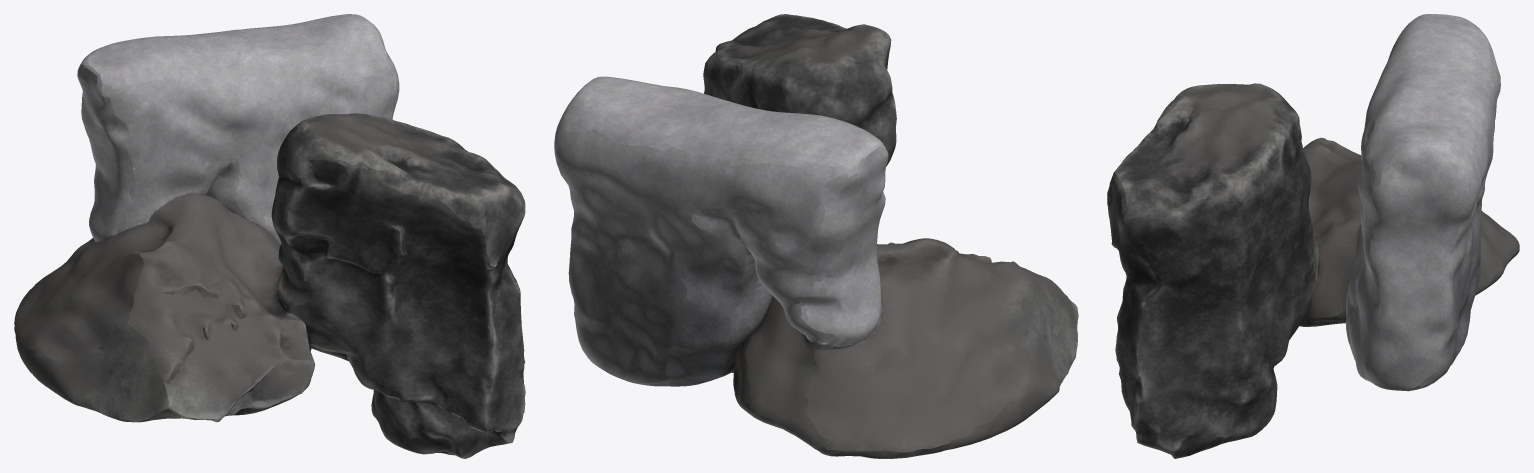
3 renders of one model, left to right at view 1: azimuth 30°, elevation 25°; view 2: azimuth 150°, elevation 25°; view 3: azimuth 270°, elevation 25°, orthographic. The views are drawn at different scales.
Parts seen in each view (by area): view 1: world; view 2: world; view 3: world.
Part boxes in pixels (<box>): world: <box>14,14,525,458</box>; world: <box>554,14,1078,458</box>; world: <box>1107,14,1519,458</box>.
Bounding box in the file's own units: 1.2 × 1.07 × 1.2.
Materials: 1 (1 with a texture image).
